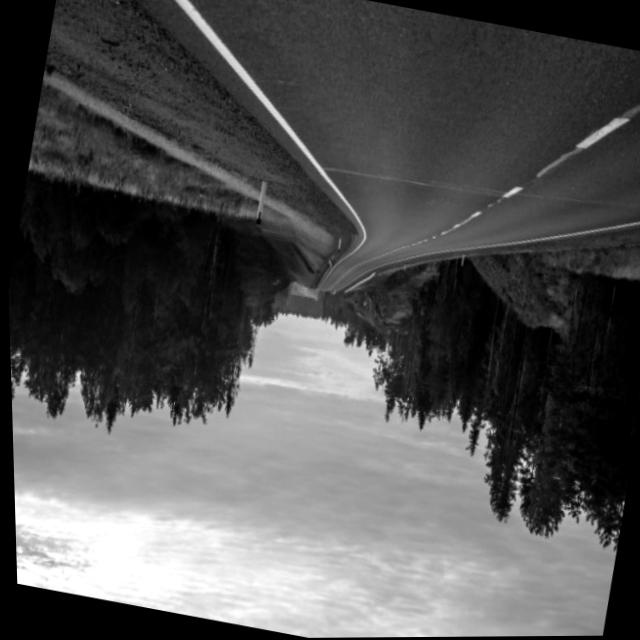cleat: (7, 0, 640, 638)
